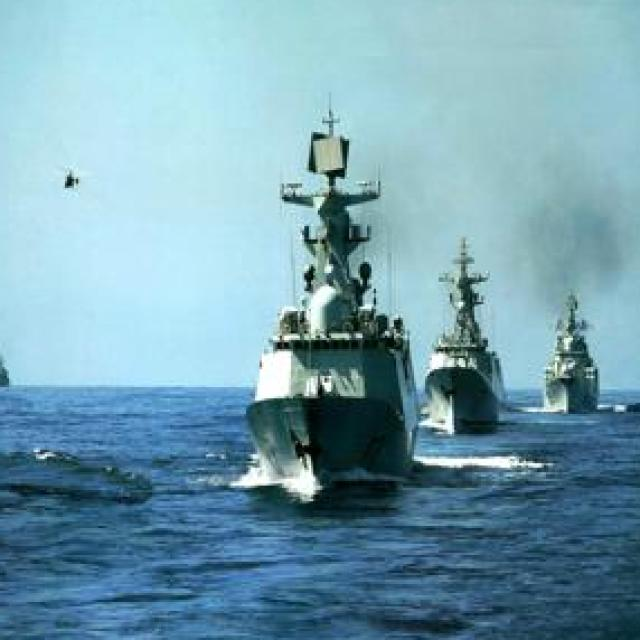navalvessels: (245, 90, 425, 491), (424, 238, 514, 429), (538, 290, 602, 411), (0, 342, 14, 387)
